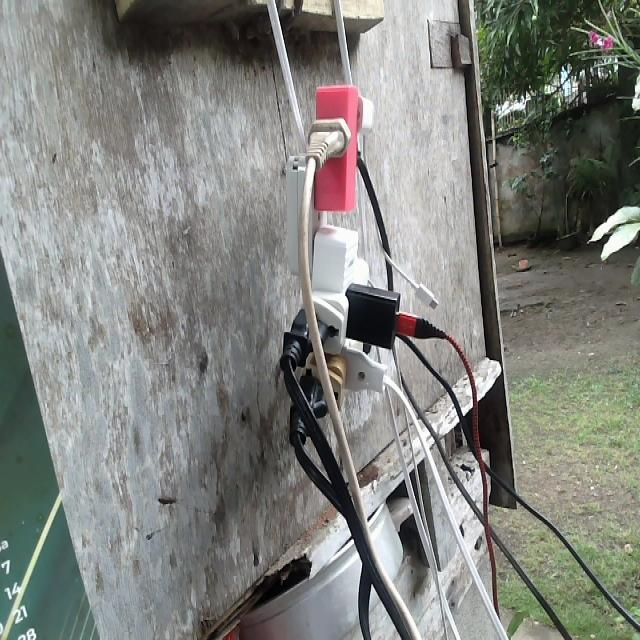-: (285, 77, 436, 443)
